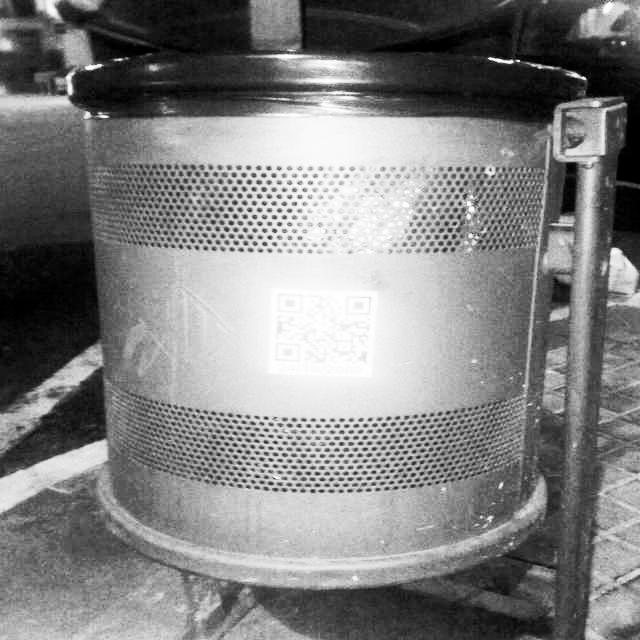qr_code: (275, 293, 372, 364)
